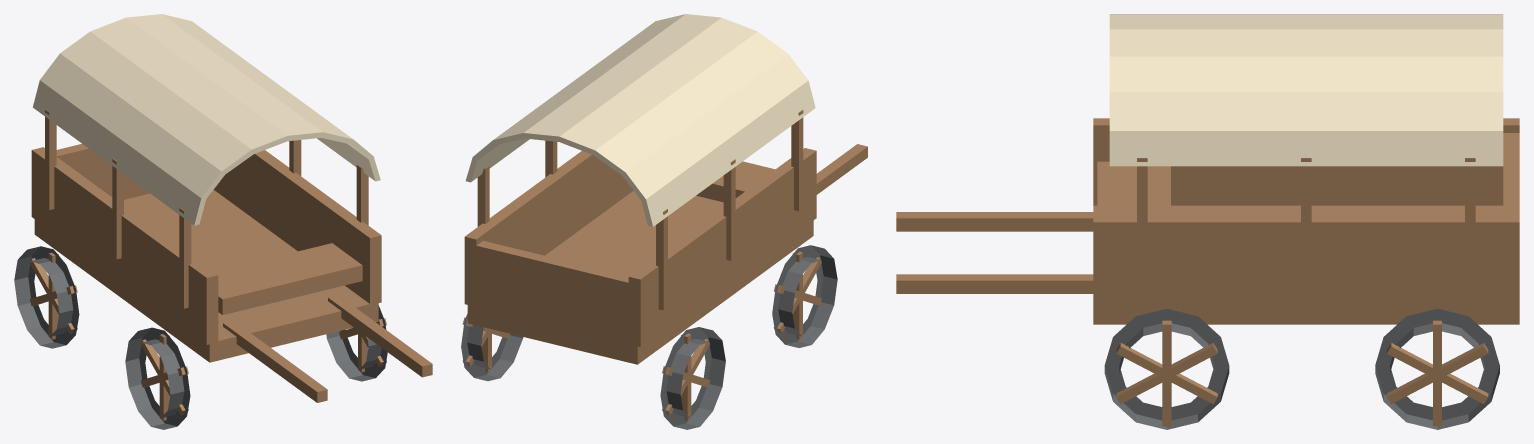
Rendered from wagon.glb.
3 renders of one model, left to right at view 1: azimuth 30°, elevation 25°; view 2: azimuth 150°, elevation 25°; view 3: azimuth 270°, elevation 25°, orthographic. The views are drawn at different scales.
Visible parts, largest first — view 1: frontier-post-covered-wagon; view 2: frontier-post-covered-wagon; view 3: frontier-post-covered-wagon.
Boxes of the visible parts, x1=… form: frontier-post-covered-wagon: x1=14, y1=14, x2=432, y2=429; frontier-post-covered-wagon: x1=461, y1=14, x2=867, y2=429; frontier-post-covered-wagon: x1=896, y1=14, x2=1519, y2=429.
Size of the model in its own units: 1.85 by 2.3 by 3.8.
